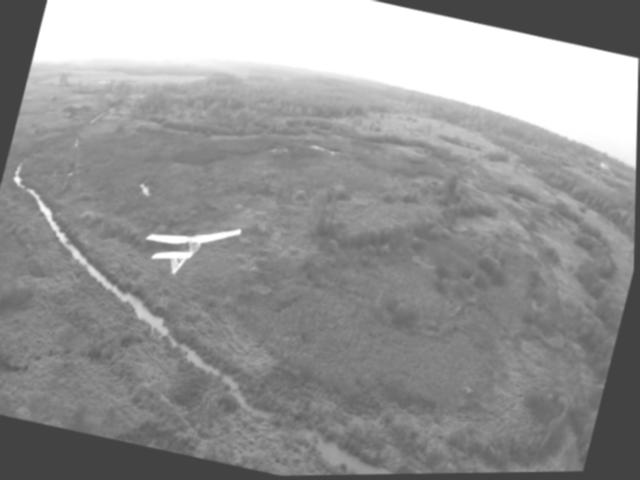hedef: (131, 202, 248, 296)
